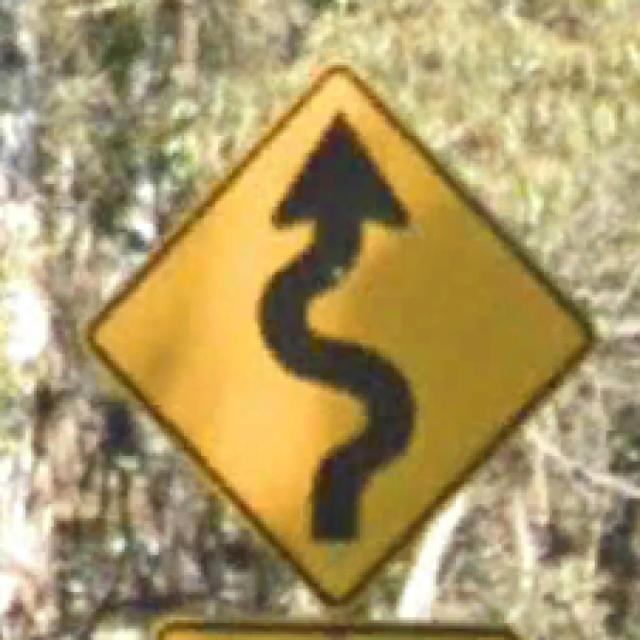Banyak Tikungan Pertama Kanan: (74, 54, 600, 606)
